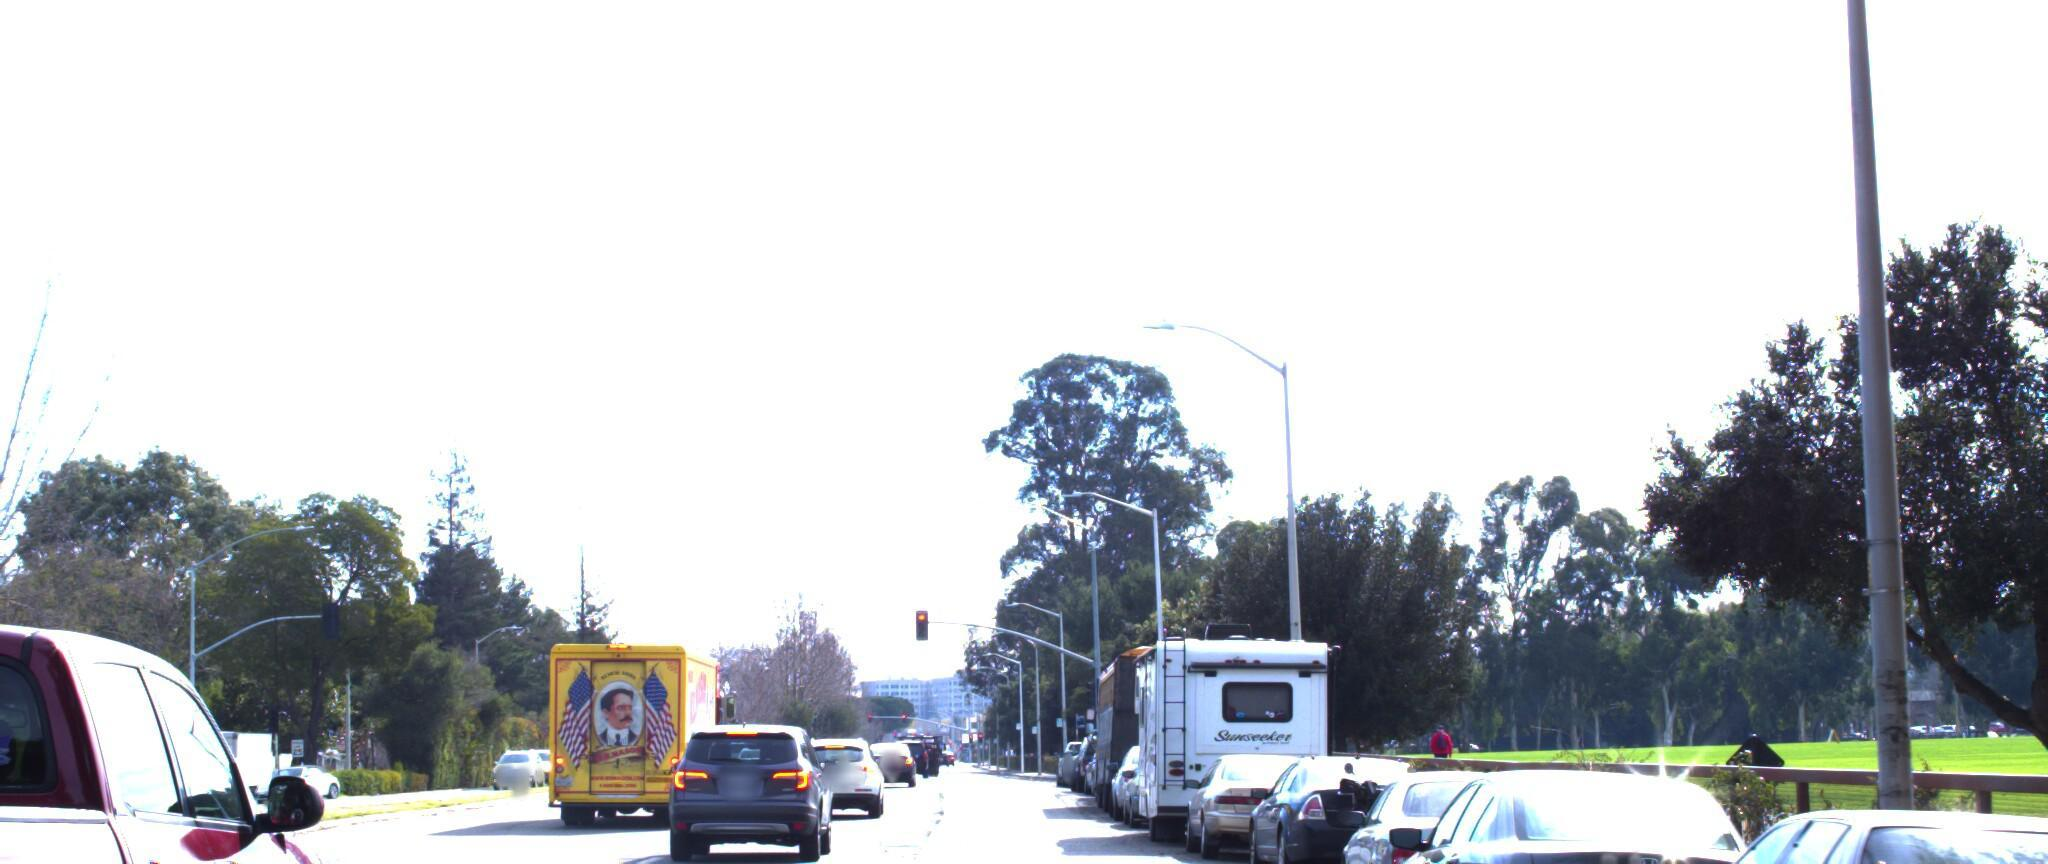bus: (1081, 629, 1249, 794)
car: (0, 572, 387, 864), (1354, 749, 1819, 864), (1567, 777, 2048, 864), (1319, 750, 1624, 864), (1223, 737, 1465, 864), (653, 709, 835, 854), (1179, 737, 1337, 846), (1898, 767, 2048, 864), (788, 718, 884, 803)
motorcycle: (1283, 743, 1522, 864)
other_vehicle: (1119, 599, 1351, 831)
truck: (549, 619, 739, 812)
